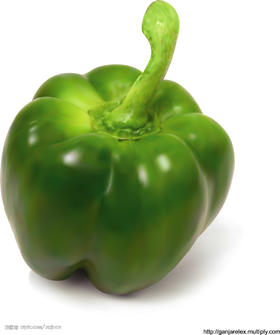fruit_pepper: (1, 1, 237, 298)
